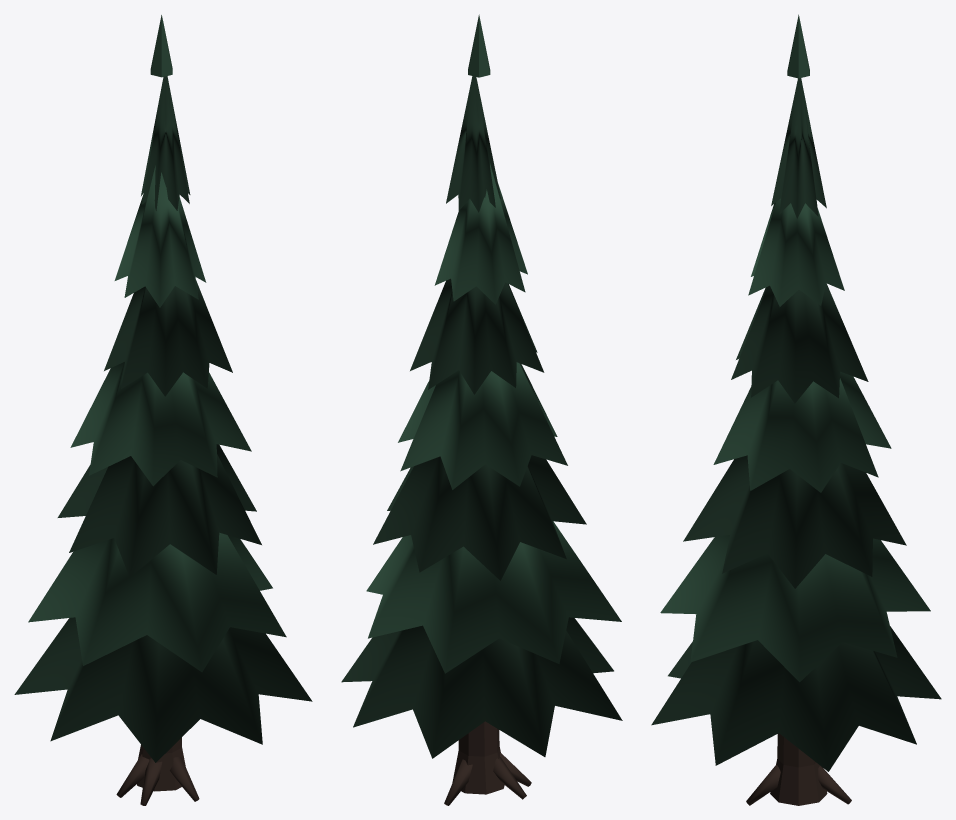
Rendered from pine_a.glb.
3 renders of one model, left to right at view 1: azimuth 30°, elevation 25°; view 2: azimuth 150°, elevation 25°; view 3: azimuth 270°, elevation 25°, orthographic.
Parts seen in each view (by area): view 1: pine_a; view 2: pine_a; view 3: pine_a.
Part boxes in pixels (<box>): pine_a: <box>14,15,312,805</box>; pine_a: <box>341,14,622,805</box>; pine_a: <box>651,14,941,805</box>.
Bounding box in the file's own units: 1.13 × 3.33 × 1.12.
